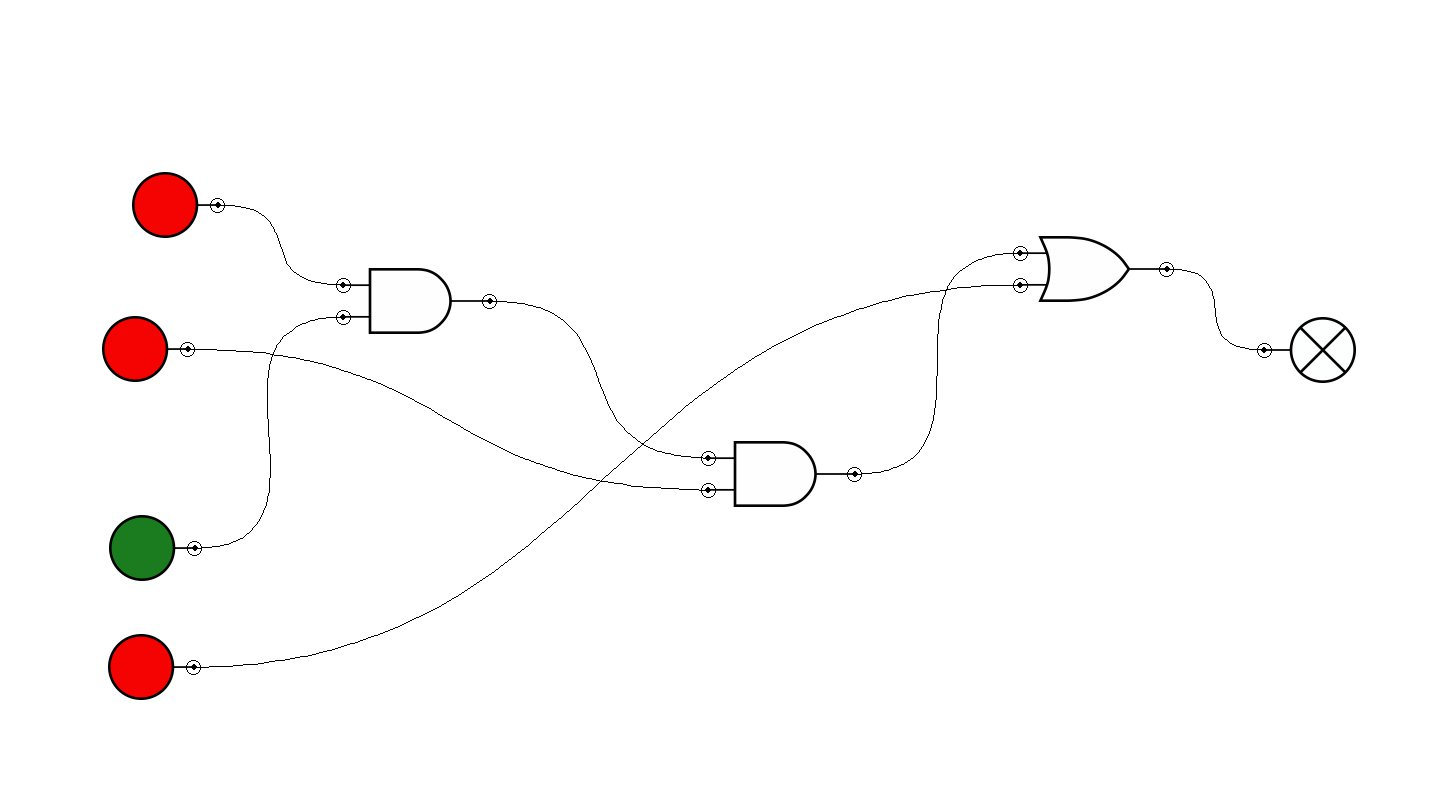and: (701, 441, 862, 507), (336, 268, 497, 334)
bulb: (1257, 317, 1356, 383)
or: (1013, 236, 1174, 302)
switch_False: (108, 634, 201, 700), (102, 316, 195, 382), (132, 172, 225, 238)
switch_True: (109, 515, 202, 581)
